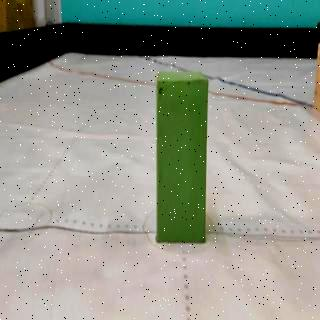greenbox: (155, 74, 206, 244)
